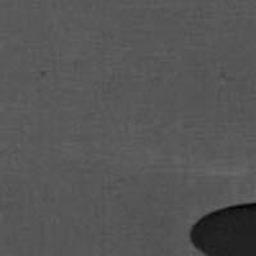Punching: (189, 201, 256, 256)
